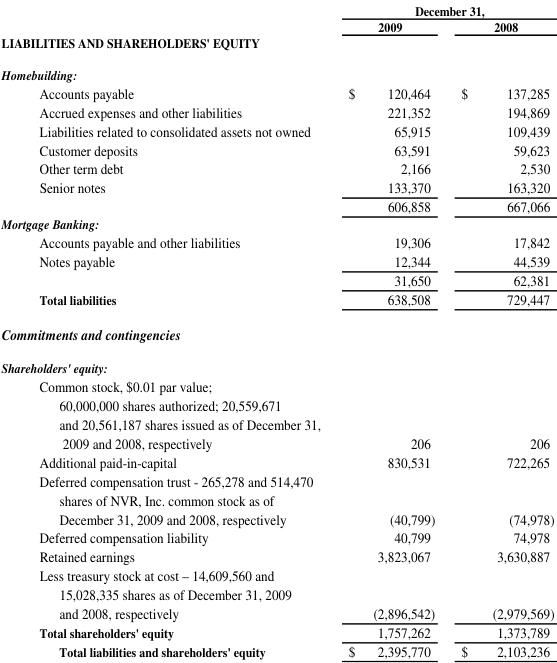table: (0, 1, 553, 660)
table column: (0, 1, 333, 660), (333, 1, 447, 660), (447, 1, 553, 660)
table column header: (0, 1, 553, 34)
table projected row header: (0, 316, 553, 351), (0, 351, 553, 376), (0, 34, 553, 58), (0, 58, 553, 82), (0, 376, 553, 395), (0, 215, 553, 232)
table row: (0, 470, 553, 527), (0, 565, 553, 622), (0, 395, 553, 451), (0, 316, 553, 351), (0, 289, 553, 316), (0, 351, 553, 376), (0, 34, 553, 58), (0, 58, 553, 82), (0, 82, 553, 101), (0, 101, 553, 120), (0, 120, 553, 139), (0, 139, 553, 158), (0, 158, 553, 177), (0, 177, 553, 196), (0, 196, 553, 215), (0, 232, 553, 251), (0, 251, 553, 270), (0, 270, 553, 289), (0, 376, 553, 395), (0, 451, 553, 470), (0, 527, 553, 546), (0, 546, 553, 565), (0, 622, 553, 641), (0, 641, 553, 660), (0, 1, 553, 18), (0, 215, 553, 232), (0, 18, 553, 34)
table spanning cell: (333, 1, 553, 18)
